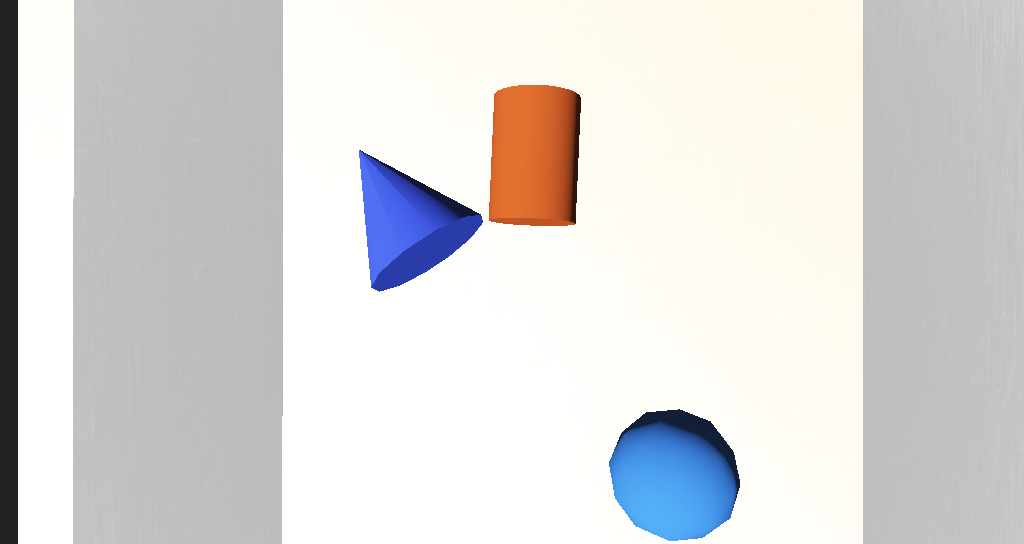cone: (461, 203, 509, 255)
cylinder: (357, 212, 465, 274)
sphere: (519, 315, 586, 363)
